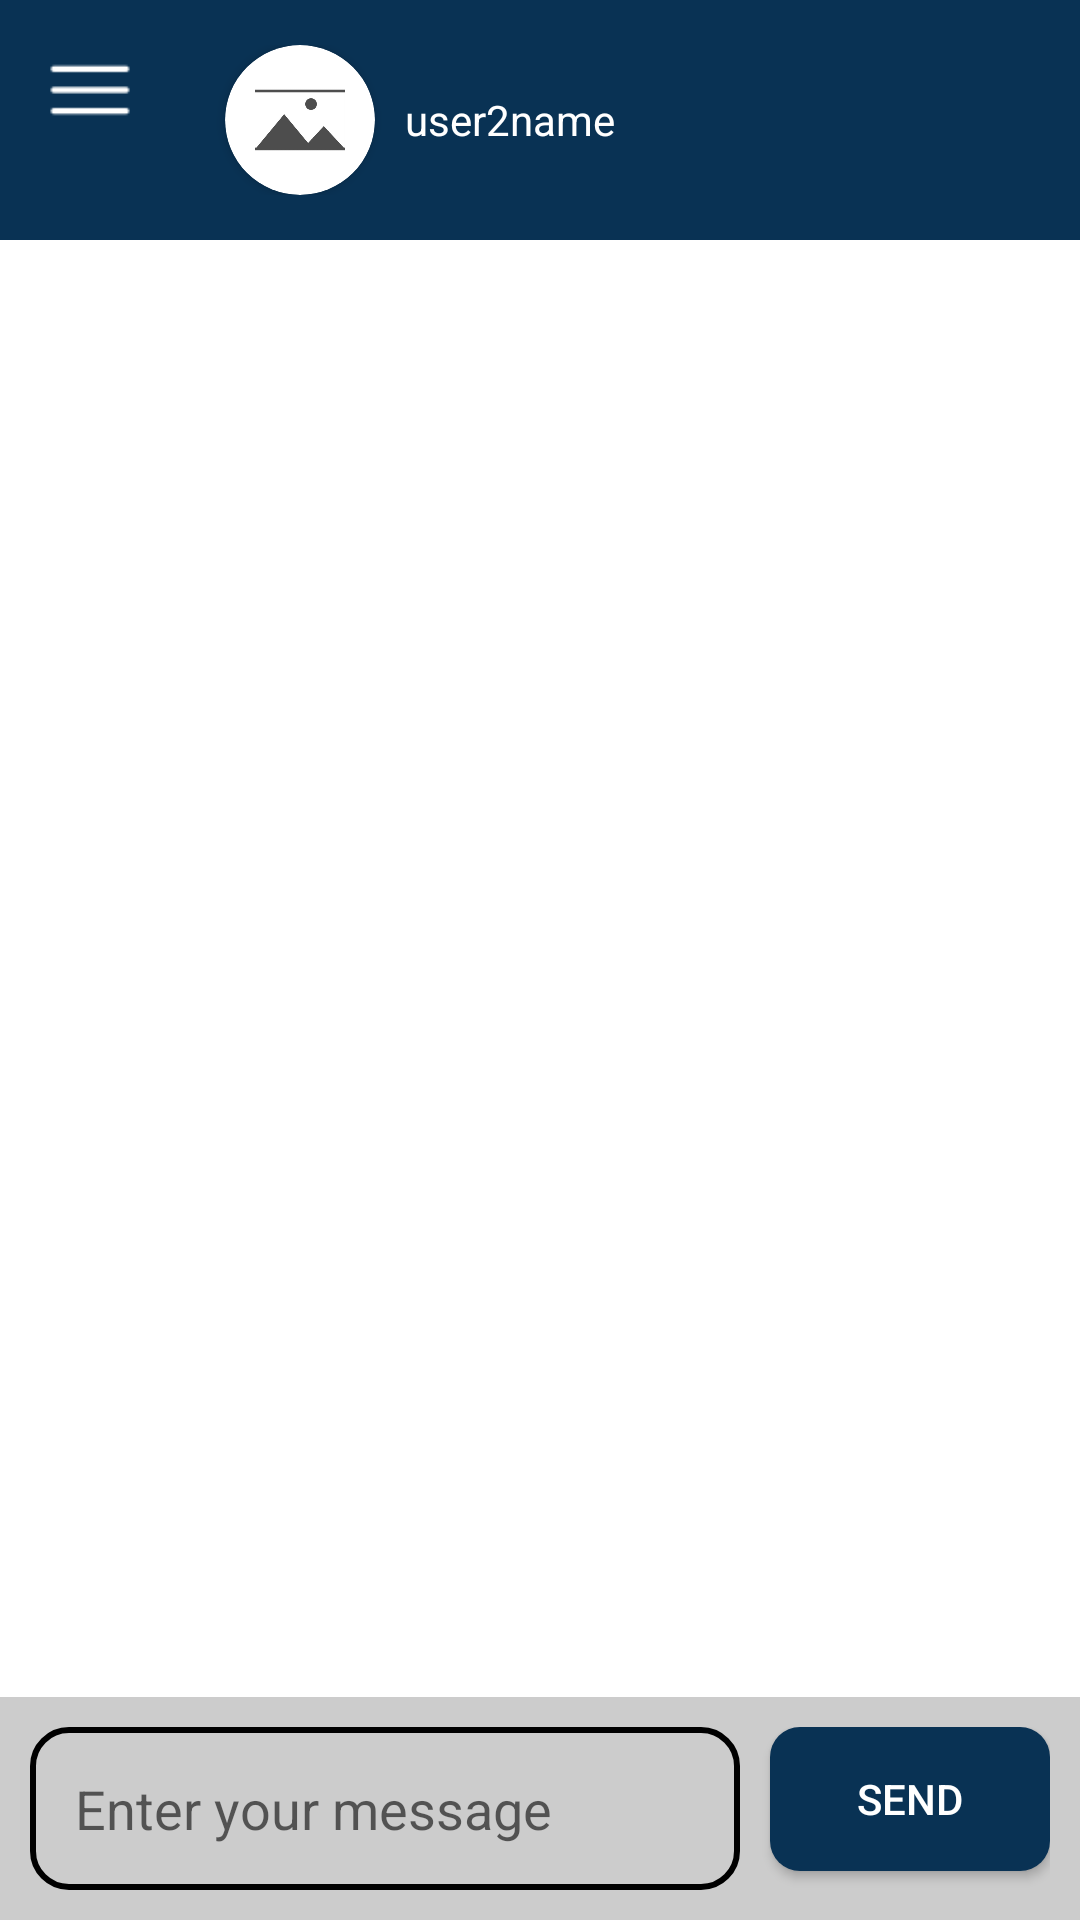

Screen size 1080×1920. Icon name, then its center in pixels as point (x, y):
burger: point (90, 90)
